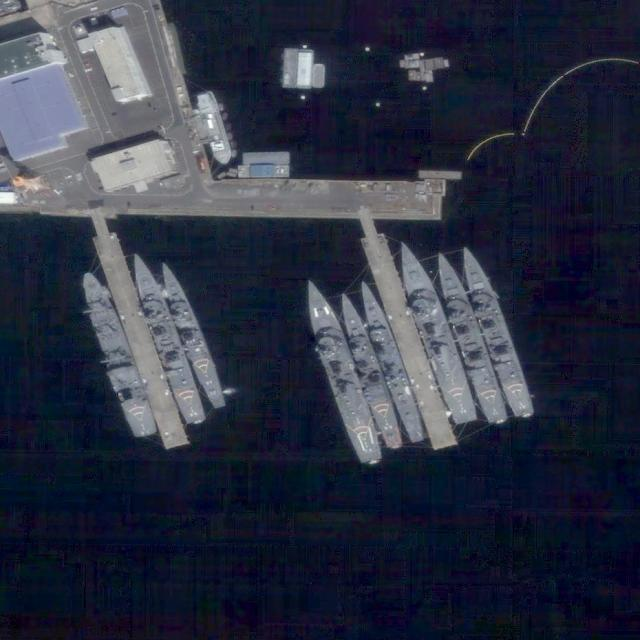Auxiliary Ships: (74, 266, 158, 441)
Destroyer: (425, 246, 514, 427), (124, 249, 208, 428), (454, 241, 535, 421), (331, 290, 407, 449), (155, 257, 228, 410)
Dock: (84, 210, 189, 449), (353, 215, 456, 448)
Other Warship: (388, 236, 483, 429), (292, 274, 387, 467), (352, 277, 429, 444), (193, 90, 235, 167)
